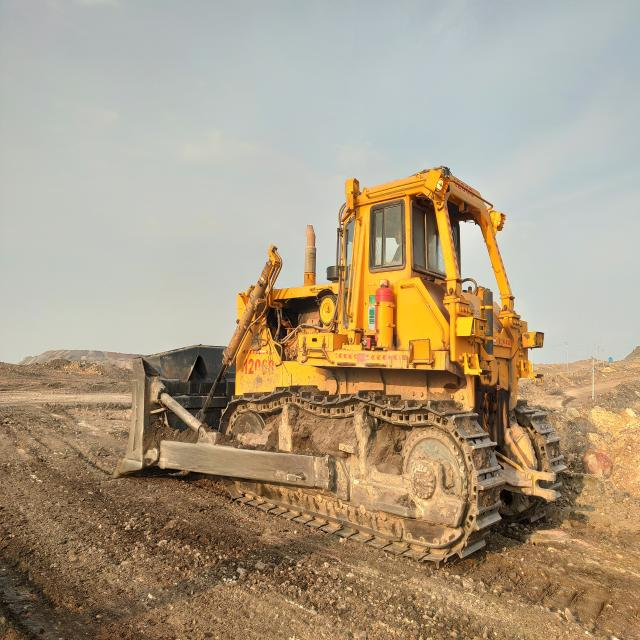buldozerpayloadergrader: (115, 168, 561, 562)
